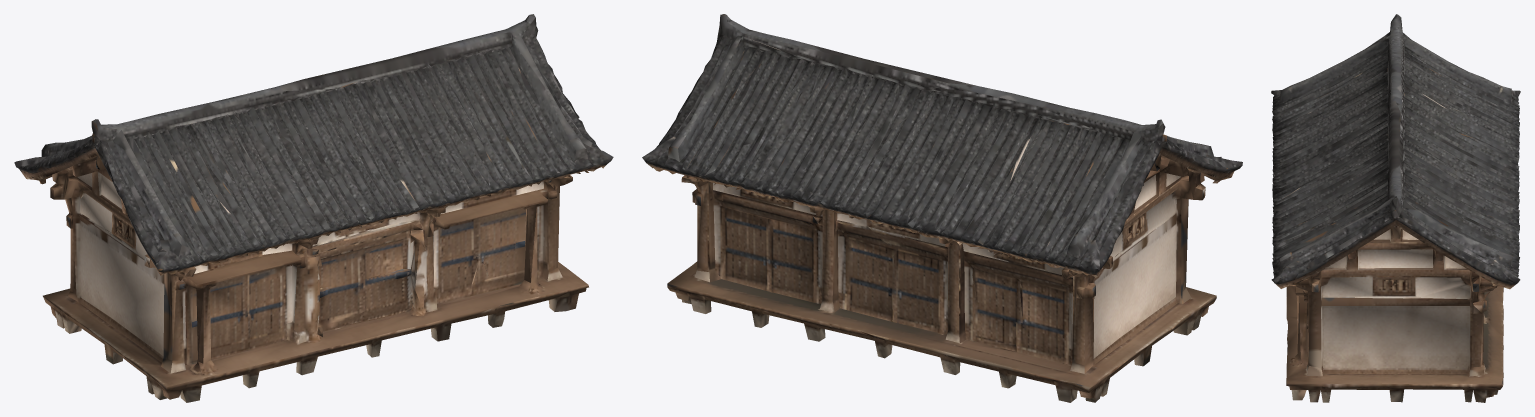
The model's file is 13_Grain_Warehouse_LOD2.fbx.
3 renders of one model, left to right at view 1: azimuth 30°, elevation 25°; view 2: azimuth 150°, elevation 25°; view 3: azimuth 270°, elevation 25°, orthographic. The views are drawn at different scales.
Visible parts, largest first — view 1: 13_Grain_Warehouse_L2; view 2: 13_Grain_Warehouse_L2; view 3: 13_Grain_Warehouse_L2.
Part boxes in pixels (x1=…): 13_Grain_Warehouse_L2: x1=14, y1=14, x2=613, y2=402; 13_Grain_Warehouse_L2: x1=642, y1=14, x2=1242, y2=402; 13_Grain_Warehouse_L2: x1=1271, y1=14, x2=1520, y2=402.
Size of the model in its own units: 12.48 by 6.5 by 6.93.
